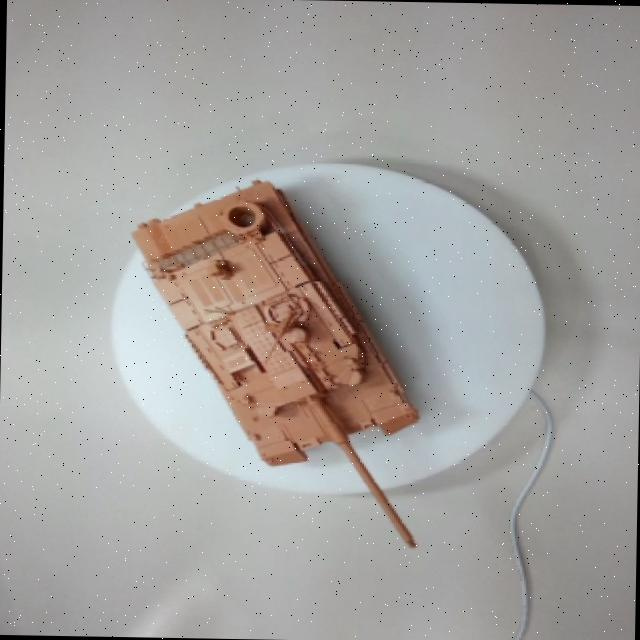korea tank: (119, 131, 442, 559)
